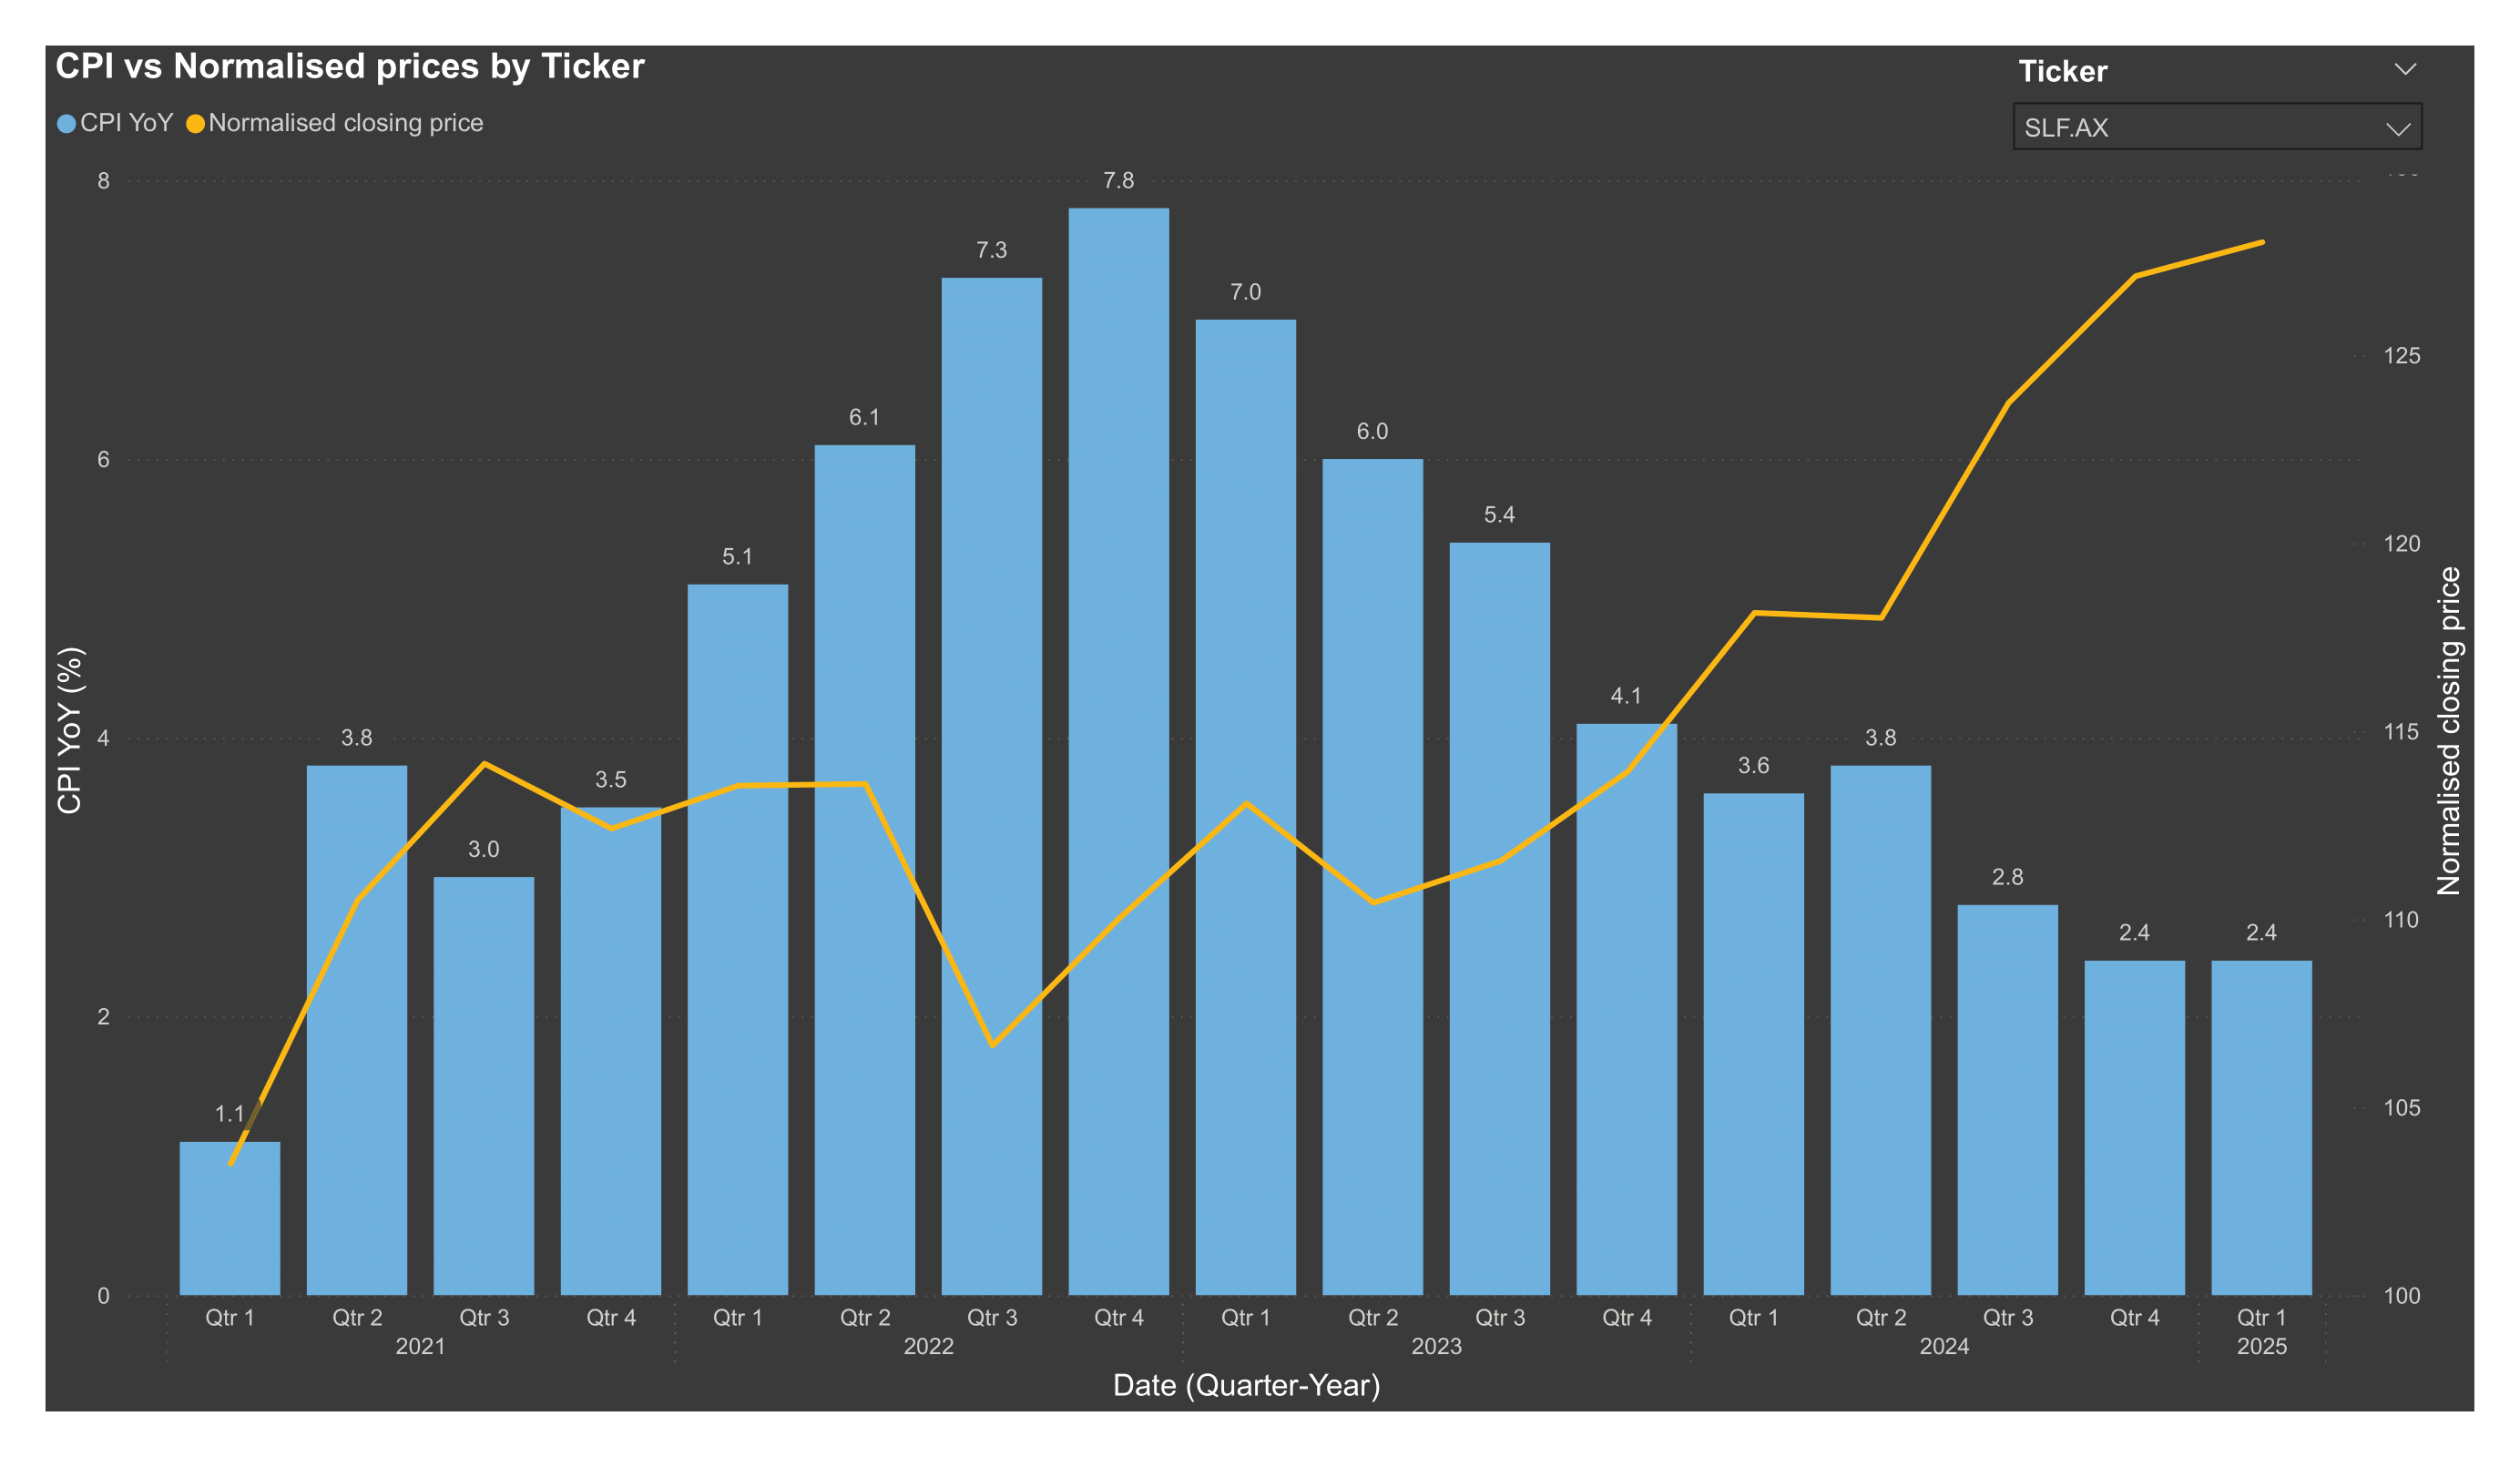

What the dashboard file says about the page in this screenshot:
{"tool":"powerbi","page":{"name":"Clustered chart — CPI vs Prices","canvas":[1280,720],"ordinal":11},"visuals":[{"type":"lineClusteredColumnComboChart","title":"CPI vs Normalised prices by Ticker","fields":{"Y2":["Max(Daily Data.Normalized_Close)"],"Y":["Avg(CPI YoY.All groups)"],"Category":["DateTable.Date.Variation.Date Hierarchy.Year","DateTable.Date.Variation.Date Hierarchy.Quarter"]},"box":[0,0,1280,720],"z":0,"group":"g1"},{"type":"slicer","fields":{"Values":["Daily Data.Ticker"]},"box":[1027.3,0,235.4,67.7],"z":1000,"group":"g1"},{"type":"group","id":"g1","title":"Group 1","box":[0,0,1280,720],"z":1001}]}

Visuals, with their boxes on the page's 1280x720 design canvas (x1, y1, x2, y2). These are canvas units, not pixel positions in the 2520x1457 screenshot, which may show the page scaled, cropped or inside an application window:
"CPI vs Normalised prices by Ticker" lineClusteredColumnComboChart: select_region(0, 0, 1280, 720)
slicer - Daily Data.Ticker: select_region(1027, 0, 1263, 68)
"Group 1" group: select_region(0, 0, 1280, 720)
